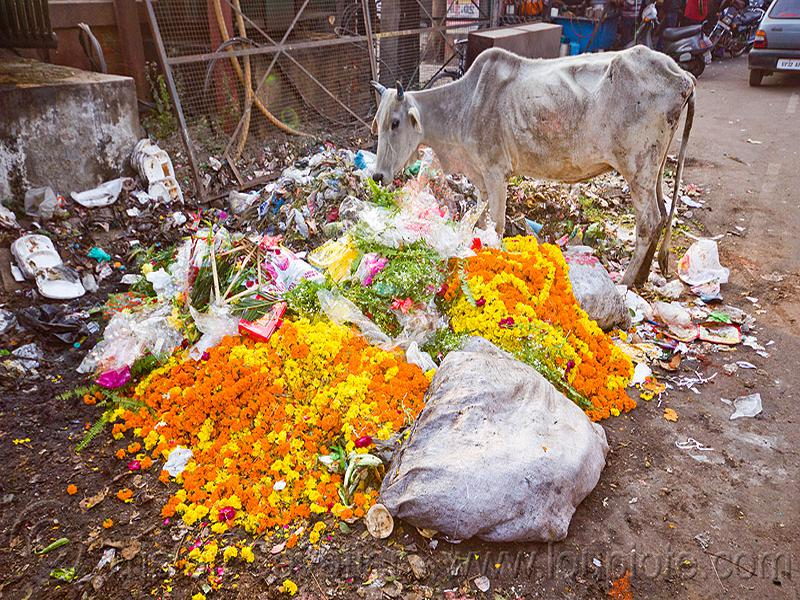flowers: (97, 314, 431, 597), (434, 230, 680, 424)
paper: (677, 224, 738, 307)
plastic: (333, 190, 502, 260), (559, 241, 647, 331), (74, 308, 188, 370), (182, 297, 240, 362)
